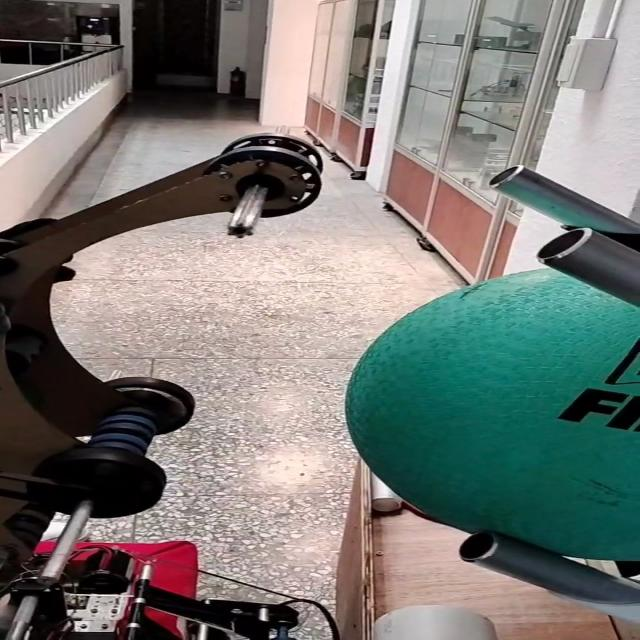ALGAE: (338, 266, 640, 564)
